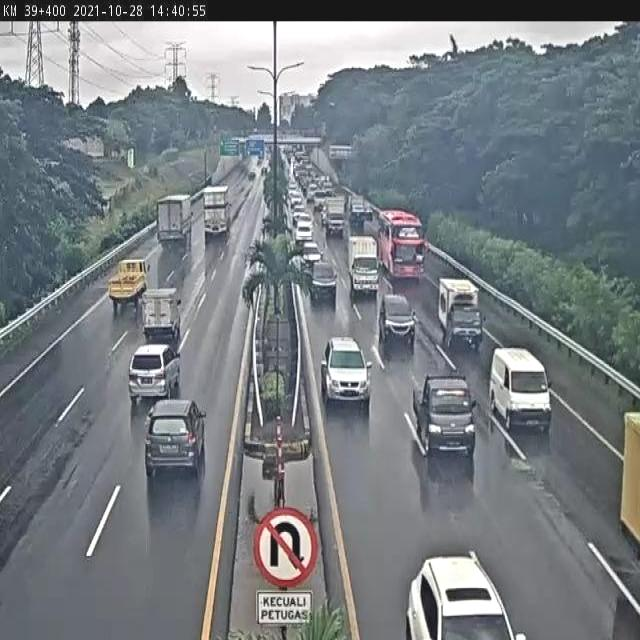Bus: (377, 210, 427, 282)
Car: (407, 554, 522, 638), (413, 372, 477, 458), (144, 398, 207, 480), (321, 336, 372, 410), (420, 443, 477, 508), (128, 343, 180, 403), (379, 293, 417, 355), (300, 243, 322, 274), (289, 253, 307, 286), (289, 190, 303, 212), (292, 210, 308, 228), (248, 160, 260, 179), (314, 195, 324, 212), (320, 207, 328, 225), (254, 156, 264, 170), (265, 161, 272, 177), (262, 164, 269, 175)
Truck: (620, 417, 640, 565), (348, 234, 380, 297), (157, 194, 191, 246), (202, 186, 229, 238), (108, 271, 146, 307), (323, 196, 346, 236), (246, 137, 265, 158)
Van: (490, 347, 553, 430), (437, 278, 482, 352), (140, 288, 182, 348), (307, 260, 338, 306), (349, 195, 371, 228), (294, 218, 314, 249), (280, 194, 294, 236), (279, 150, 295, 184), (296, 150, 312, 174), (315, 186, 333, 206), (301, 176, 315, 199), (320, 176, 334, 196), (290, 144, 306, 161), (281, 144, 295, 160), (308, 186, 320, 204)
